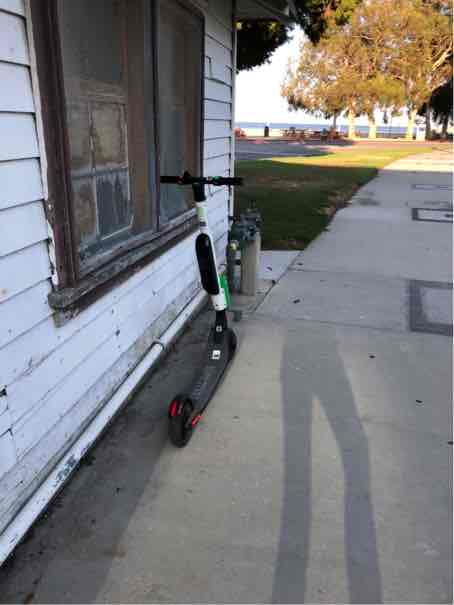scooter: (150, 165, 282, 453)
